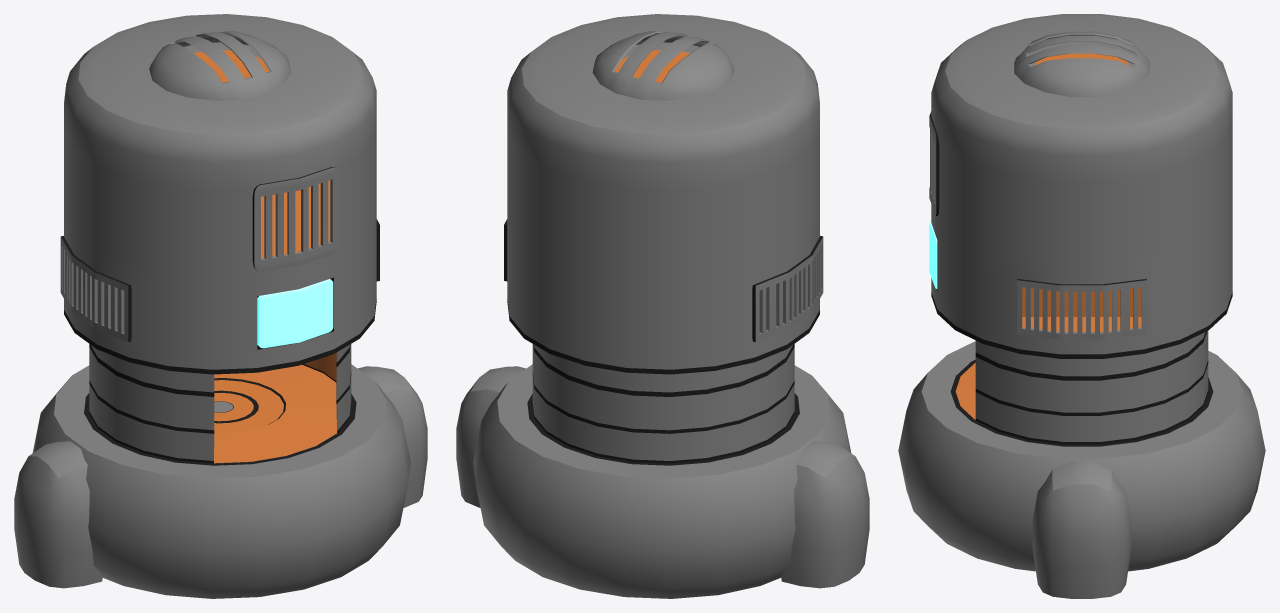
The model's file is forja.fbx.
3 renders of one model, left to right at view 1: azimuth 30°, elevation 25°; view 2: azimuth 150°, elevation 25°; view 3: azimuth 270°, elevation 25°, orthographic. The views are drawn at different scales.
Visible parts, largest first — view 1: Cylinder; view 2: Cylinder; view 3: Cylinder.
Part boxes in pixels (box(x1,y1,x2,y2)): Cylinder: box(14, 14, 427, 598); Cylinder: box(456, 14, 869, 598); Cylinder: box(898, 14, 1265, 598).
Bounding box in the file's own units: 454 × 537 × 384.
